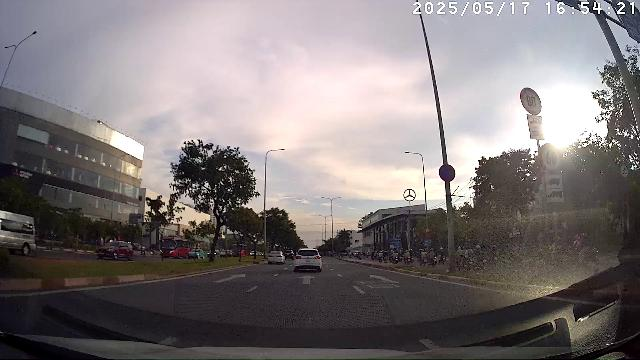127-toc-do-toi-da-60: (539, 143, 563, 171), (619, 164, 630, 179)
127-toc-do-toi-da-80: (520, 87, 542, 115)
